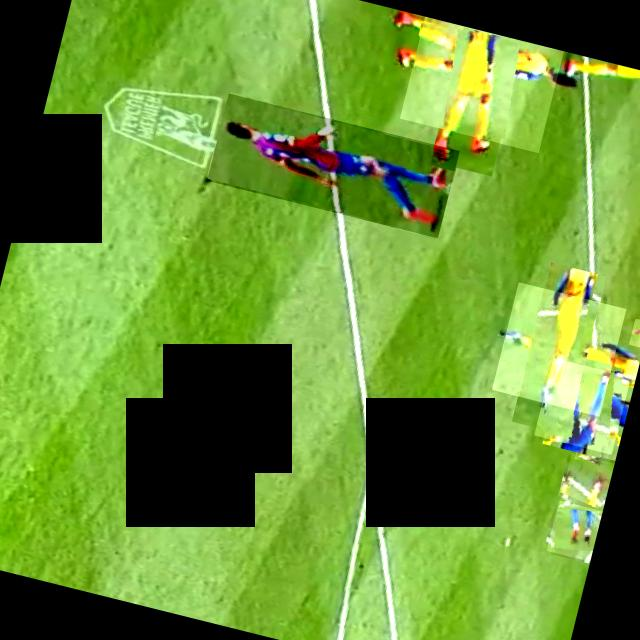goalkeeper: (627, 318, 640, 348)
soccer-player: (206, 93, 458, 238), (398, 16, 562, 152), (490, 282, 625, 416), (532, 357, 630, 454), (545, 499, 602, 562), (558, 452, 614, 514)
